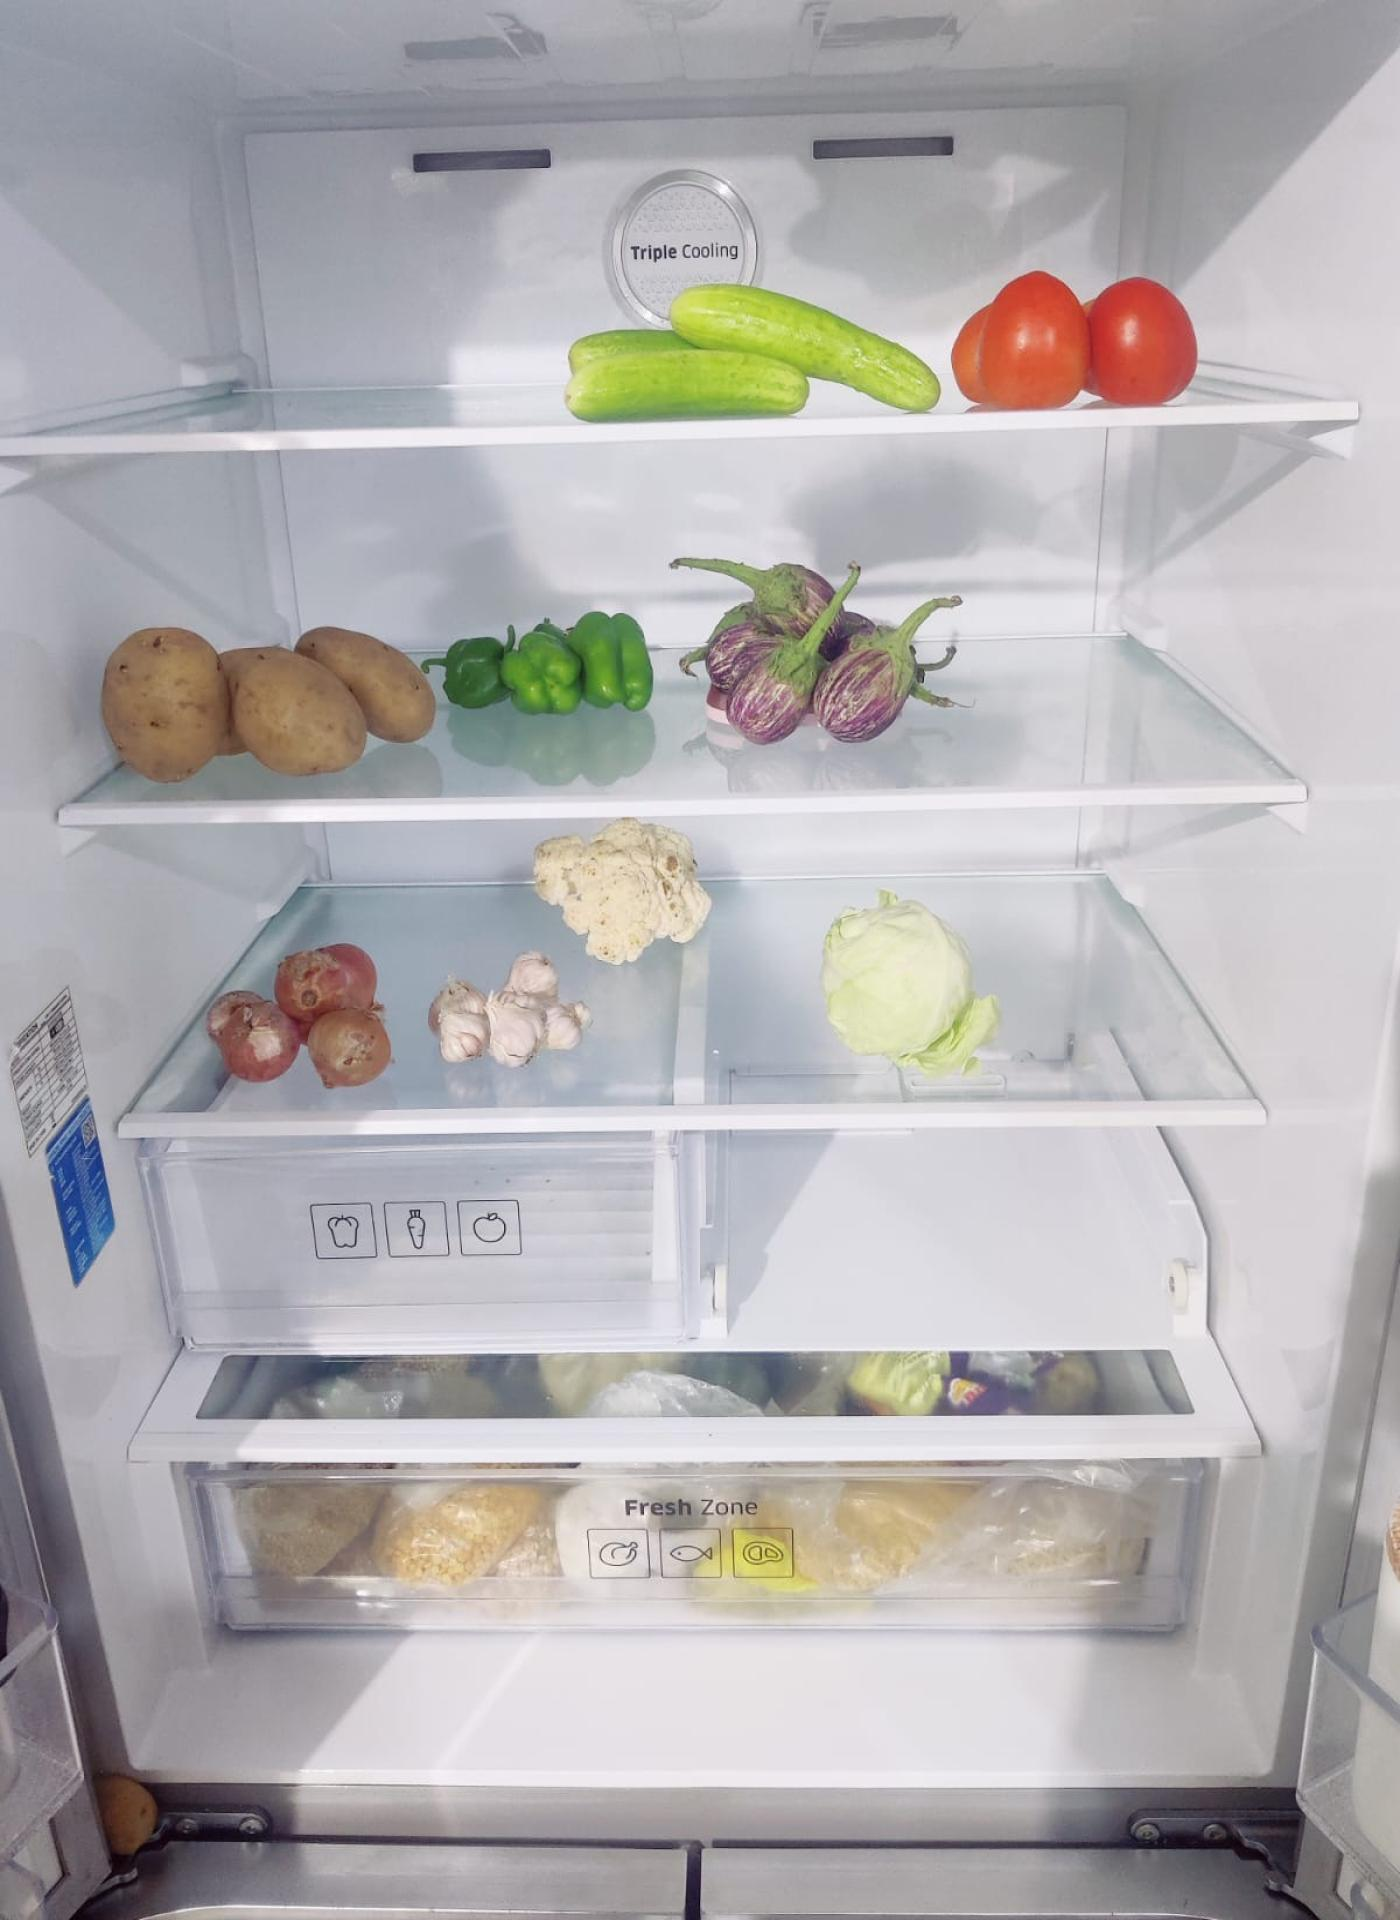brinjal: (693, 562, 918, 744)
cabbage: (824, 885, 993, 1064)
capsicum: (447, 608, 658, 716)
cauliflower: (534, 815, 711, 960)
cucumber: (568, 283, 936, 416)
garlic: (425, 954, 586, 1070)
onion: (212, 942, 397, 1088)
potato: (98, 616, 438, 774)
tomato: (950, 262, 1197, 404)
